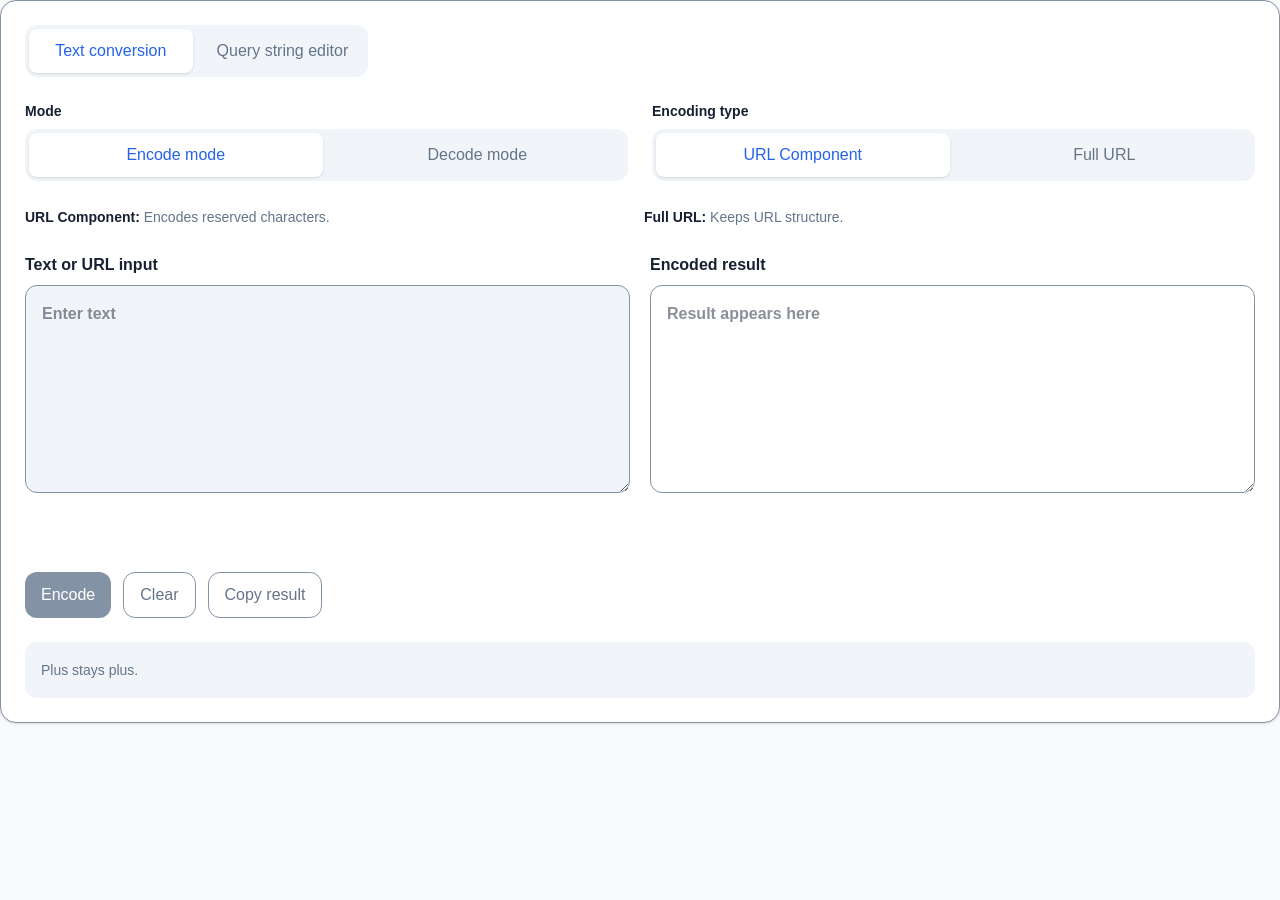
Test: UrlEncoderDecoder › shows a friendly malformed Percent error and clears feedback on edit
Click the button "Decode mode".
click(477, 155)  # box [330, 133, 624, 177]
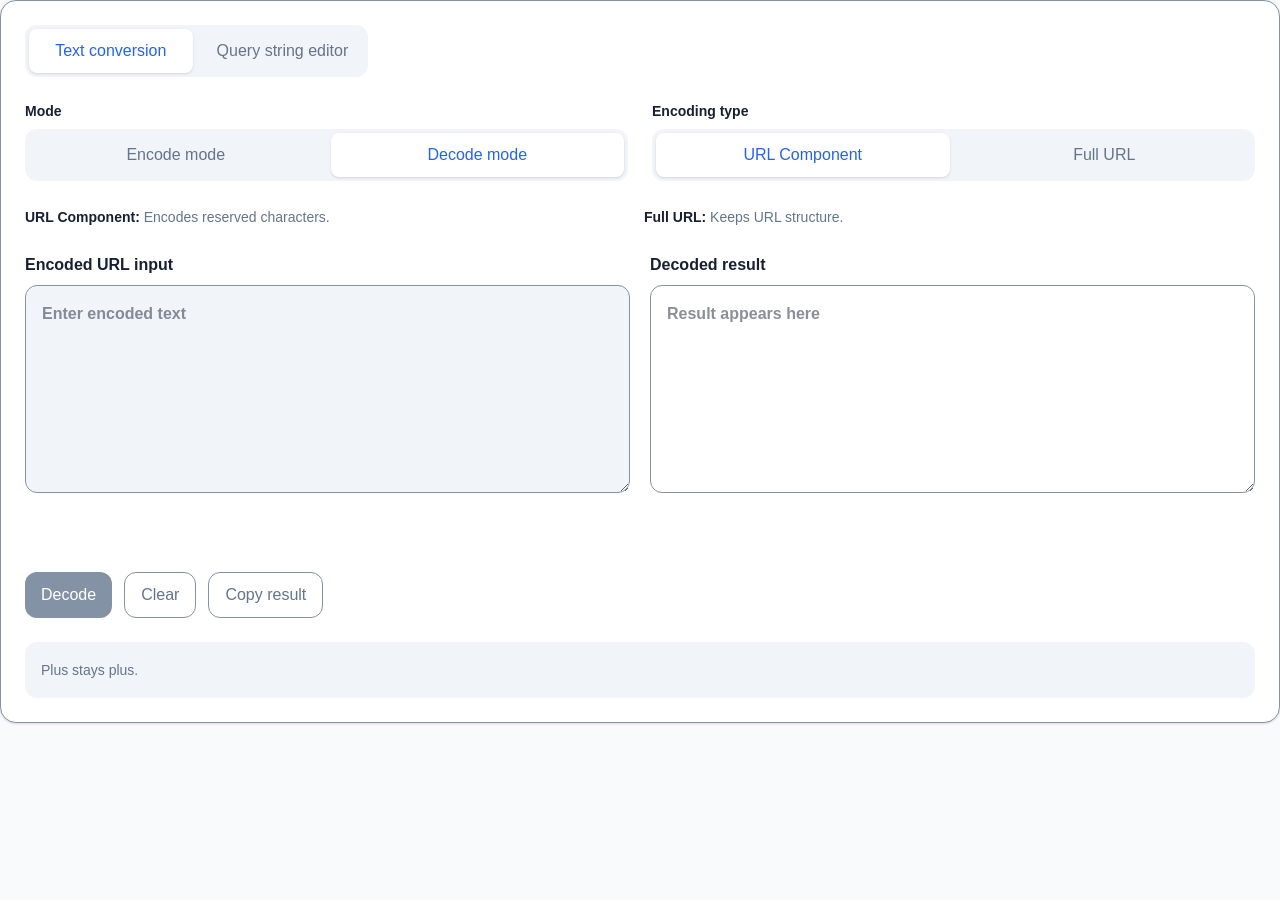
Type "%ZZ" into the text box labelled "Encoded URL input".
click(328, 389); type("%ZZ")  # box [25, 285, 630, 493]
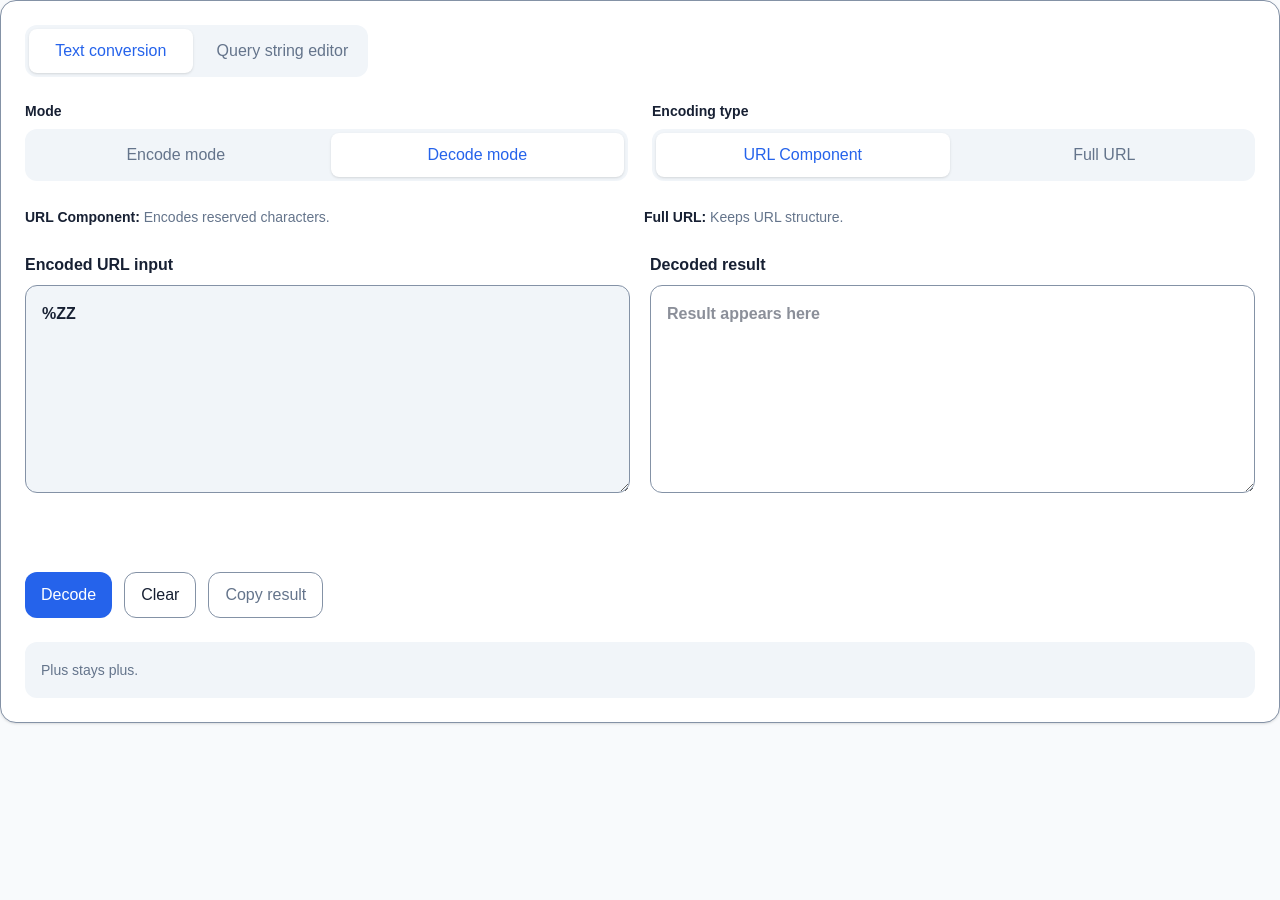
Click the button "Decode".
click(69, 595)  # box [25, 572, 112, 618]
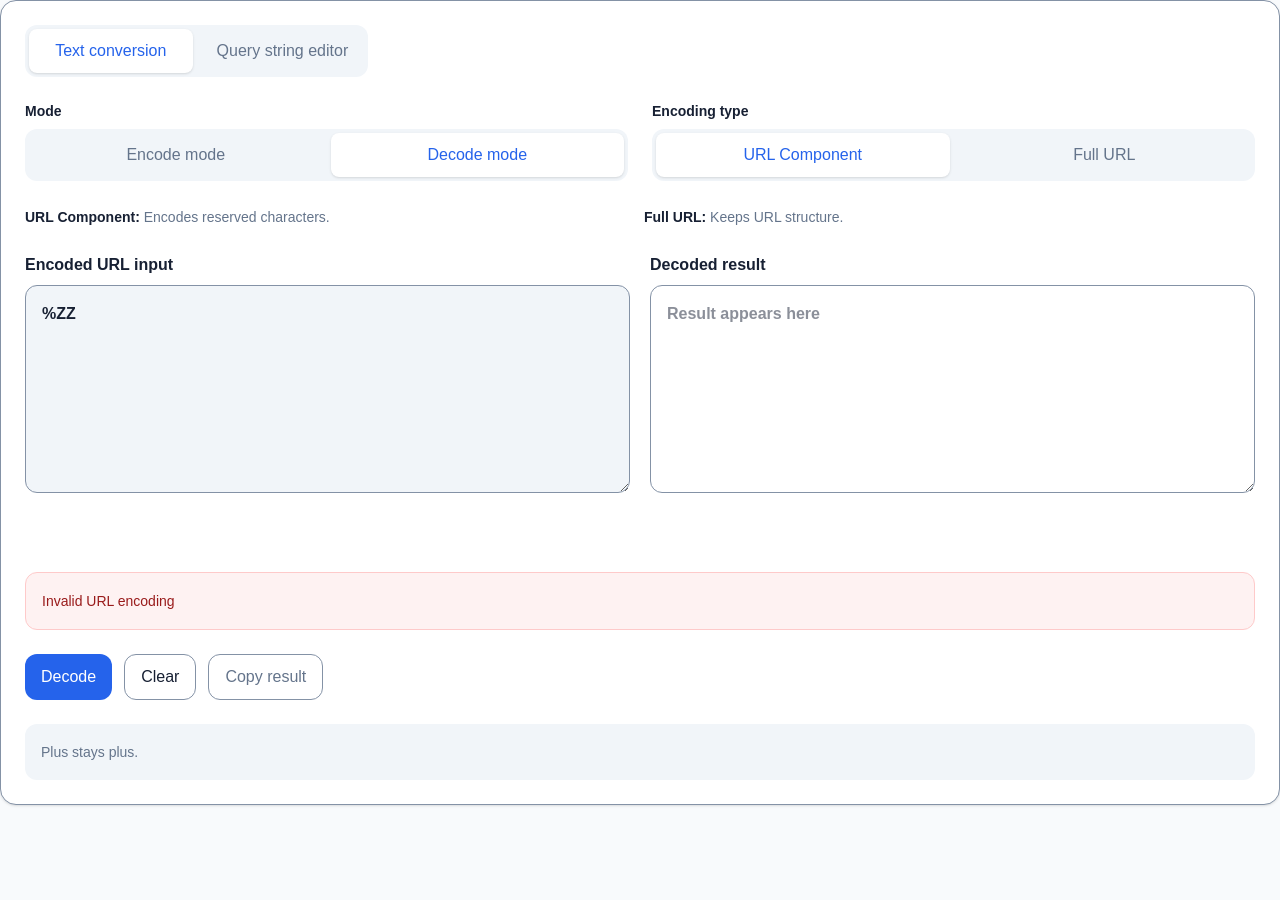
expect the message reads "Invalid URL encoding": met, box [42, 593, 175, 609]
Replace the text in the text box labelled "Encoded URL input" with "%20" at {"x": 328, "y": 389}, box [25, 285, 630, 493]
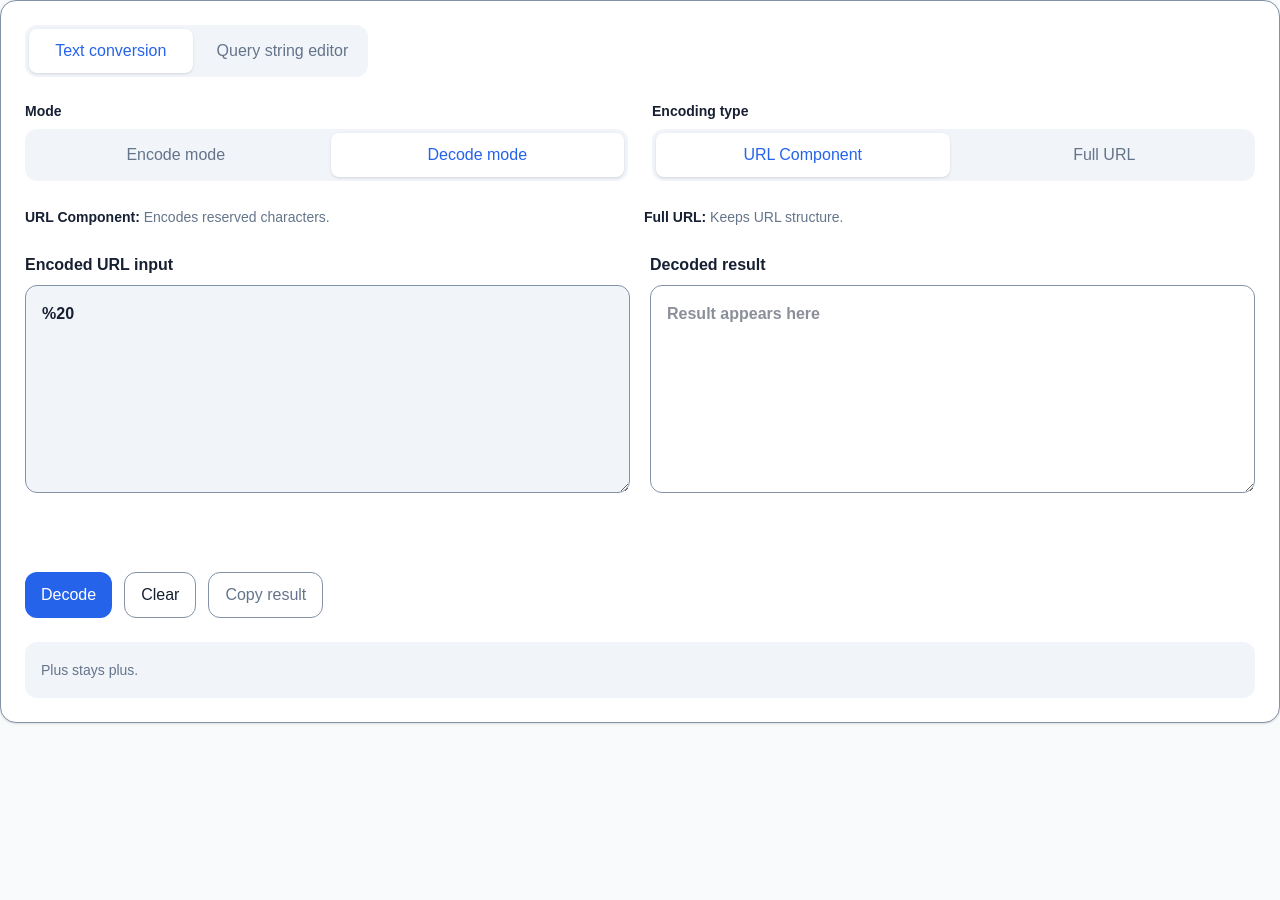
expect the message "Invalid URL encoding" is gone: met
